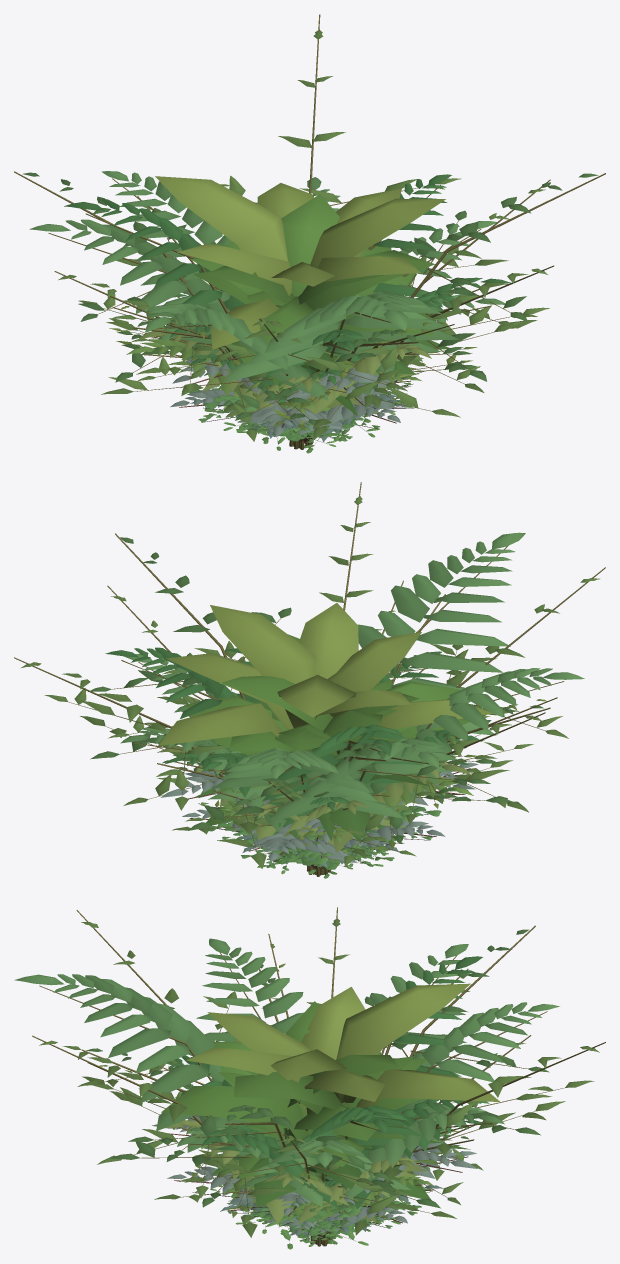
Rendered from ferns.glb.
3 views of the same model, one above another, from view 1: azimuth 30°, elevation 25°; view 2: azimuth 150°, elevation 25°; view 3: azimuth 270°, elevation 25° (orthographic). The views are drawn at different scales.
Parts seen in each view (by area): view 1: sword_fern_1_detail, bird_nest_fern_1_detail, bracken_fern_2_detail, bracken_fern_0_detail, bird_nest_fern_2_detail, sword_fern_2_detail, lady_fern_1_detail, painted_fern_0_detail, bird_nest_fern_0_detail, painted_fern_2_detail, lady_fern_0_detail, bracken_fern_1_detail (+4 smaller); view 2: sword_fern_1_detail, bird_nest_fern_1_detail, bracken_fern_2_detail, bracken_fern_0_detail, sword_fern_2_detail, bird_nest_fern_2_detail, bird_nest_fern_0_detail, lady_fern_1_detail, painted_fern_0_detail, painted_fern_2_detail, sword_fern_0_detail, lady_fern_0_detail (+6 smaller); view 3: sword_fern_1_detail, bird_nest_fern_1_detail, bracken_fern_2_detail, bird_nest_fern_2_detail, bracken_fern_0_detail, sword_fern_2_detail, lady_fern_1_detail, bird_nest_fern_0_detail, sword_fern_0_detail, painted_fern_0_detail, hart_tongue_fern_0_detail, painted_fern_2_detail (+6 smaller).
Part boxes in pixels (bbox=[...]): sword_fern_1_detail: bbox=[29, 171, 505, 400]; bird_nest_fern_1_detail: bbox=[155, 176, 445, 449]; bracken_fern_2_detail: bbox=[54, 14, 553, 441]; bracken_fern_0_detail: bbox=[14, 171, 605, 439]; bird_nest_fern_2_detail: bbox=[193, 194, 434, 448]; sword_fern_2_detail: bbox=[64, 174, 451, 396]; lady_fern_1_detail: bbox=[137, 305, 431, 425]; painted_fern_0_detail: bbox=[170, 376, 411, 442]; bird_nest_fern_0_detail: bbox=[190, 240, 449, 448]; painted_fern_2_detail: bbox=[172, 358, 390, 413]; lady_fern_0_detail: bbox=[126, 339, 422, 421]; bracken_fern_1_detail: bbox=[109, 306, 477, 435]; sword_fern_1_detail: bbox=[120, 532, 584, 831]; bird_nest_fern_1_detail: bbox=[158, 603, 493, 876]; bracken_fern_2_detail: bbox=[14, 482, 605, 868]; bracken_fern_0_detail: bbox=[88, 533, 550, 868]; sword_fern_2_detail: bbox=[105, 647, 481, 828]; bird_nest_fern_2_detail: bbox=[184, 634, 459, 874]; bird_nest_fern_0_detail: bbox=[182, 679, 469, 874]; lady_fern_1_detail: bbox=[157, 746, 471, 853]; painted_fern_0_detail: bbox=[182, 762, 478, 868]; painted_fern_2_detail: bbox=[160, 770, 475, 844]; sword_fern_0_detail: bbox=[164, 648, 469, 838]; lady_fern_0_detail: bbox=[208, 777, 473, 851]; sword_fern_1_detail: bbox=[14, 938, 559, 1206]; bird_nest_fern_1_detail: bbox=[186, 983, 499, 1246]; bracken_fern_2_detail: bbox=[32, 907, 605, 1240]; bird_nest_fern_2_detail: bbox=[161, 1041, 426, 1244]; bracken_fern_0_detail: bbox=[81, 925, 549, 1241]; sword_fern_2_detail: bbox=[159, 956, 489, 1185]; lady_fern_1_detail: bbox=[156, 1120, 458, 1233]; bird_nest_fern_0_detail: bbox=[218, 1001, 421, 1245]; sword_fern_0_detail: bbox=[198, 1117, 486, 1211]; painted_fern_0_detail: bbox=[167, 1150, 476, 1238]; hart_tongue_fern_0_detail: bbox=[211, 1124, 431, 1243]; painted_fern_2_detail: bbox=[152, 1115, 477, 1218].
Size of the model in its own units: 1.66 by 0.911 by 1.76.
